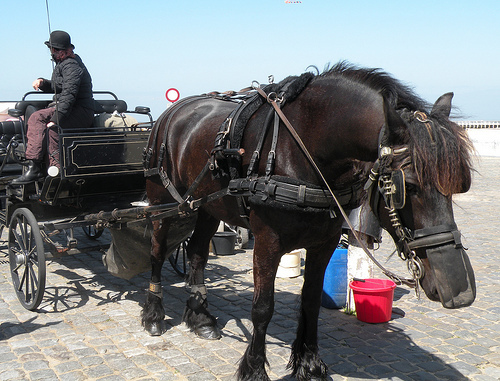horse: (141, 60, 481, 381)
